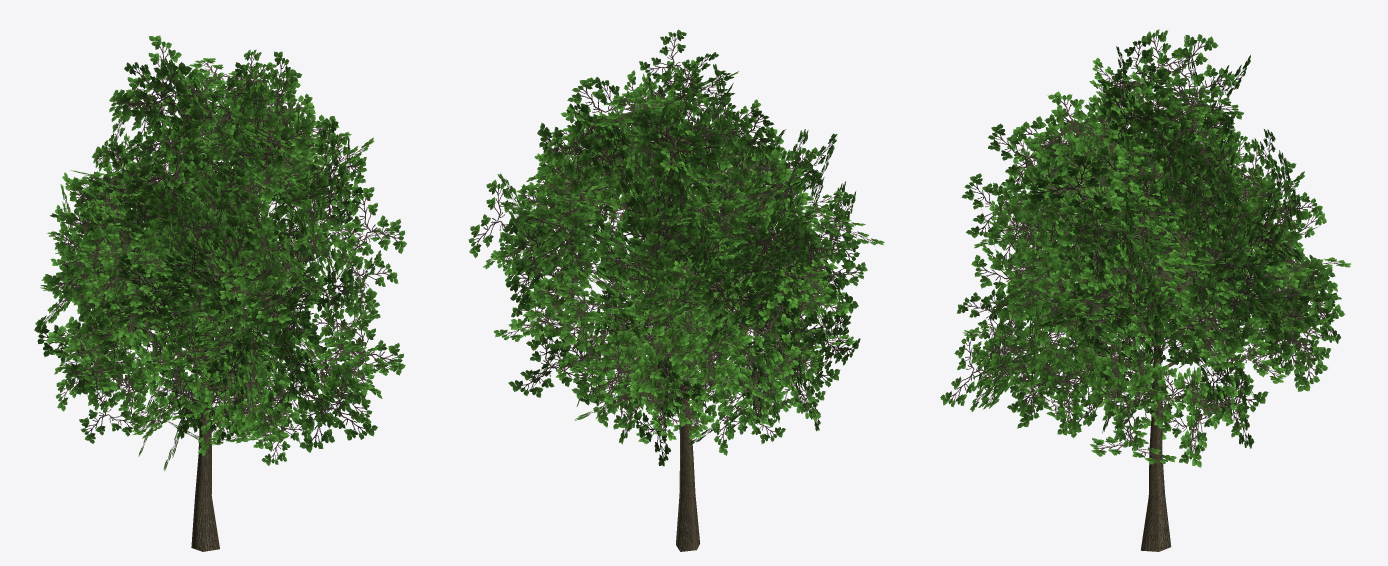
File: Tilia_x_Europea_Spring_Young.glb
The picture shows the model from 3 angles, left to right: view 1: azimuth 30°, elevation 25°; view 2: azimuth 150°, elevation 25°; view 3: azimuth 270°, elevation 25°; orthographic projection. The views are drawn at different scales.
Parts seen in each view (by area): view 1: Tilia_x_Europea_Spring_Young__LOD3; view 2: Tilia_x_Europea_Spring_Young__LOD3; view 3: Tilia_x_Europea_Spring_Young__LOD3.
Boxes of the visible parts, bbox=[...] form: Tilia_x_Europea_Spring_Young__LOD3: bbox=[34, 35, 406, 551]; Tilia_x_Europea_Spring_Young__LOD3: bbox=[468, 29, 884, 551]; Tilia_x_Europea_Spring_Young__LOD3: bbox=[940, 29, 1350, 551].
Bounding box in the file's own units: 9.42 × 12.95 × 9.81.
2 materials, 2 textured.
